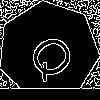Q: (24, 26, 86, 85)
